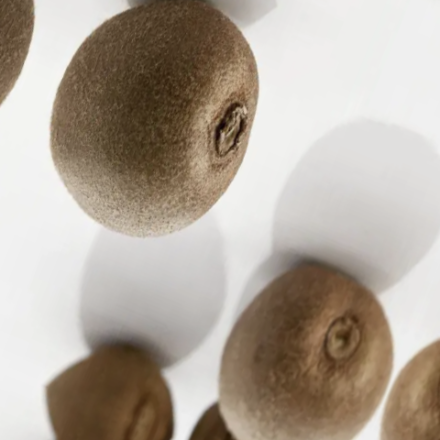kiwi: (0, 0, 314, 290), (167, 216, 430, 440)
